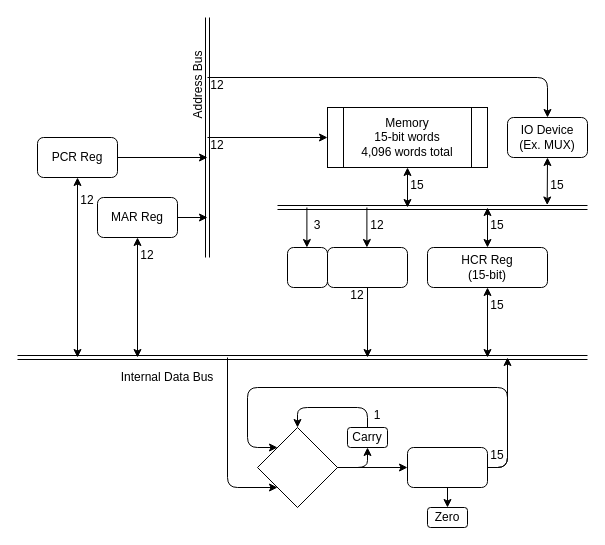
Image size: 605x545. Some labels were removed from this diagram. The shapes that lost their labels are listed below. From the top down, each one's box as (x1, y1, x2, y2) in pixels, then its label:
(286, 246, 328, 288): OIR (3-bit)
(326, 246, 408, 288): AIR Reg (12-bit)
(256, 426, 338, 508): ALU (15-bit)
(406, 446, 488, 488): ACR Reg (15-bit)
